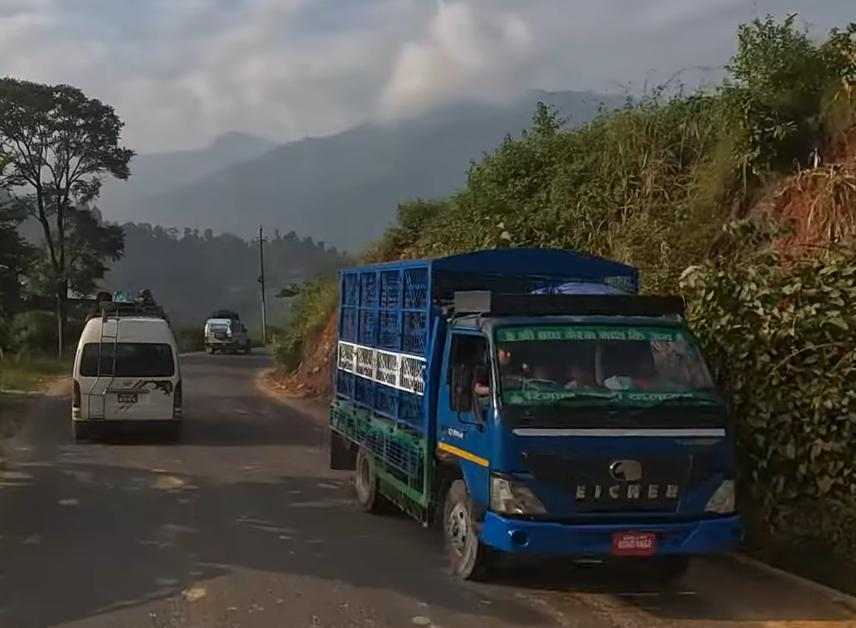SUV: (196, 305, 256, 356)
micro_bus: (63, 295, 190, 445)
mini_truck: (319, 230, 759, 579)
